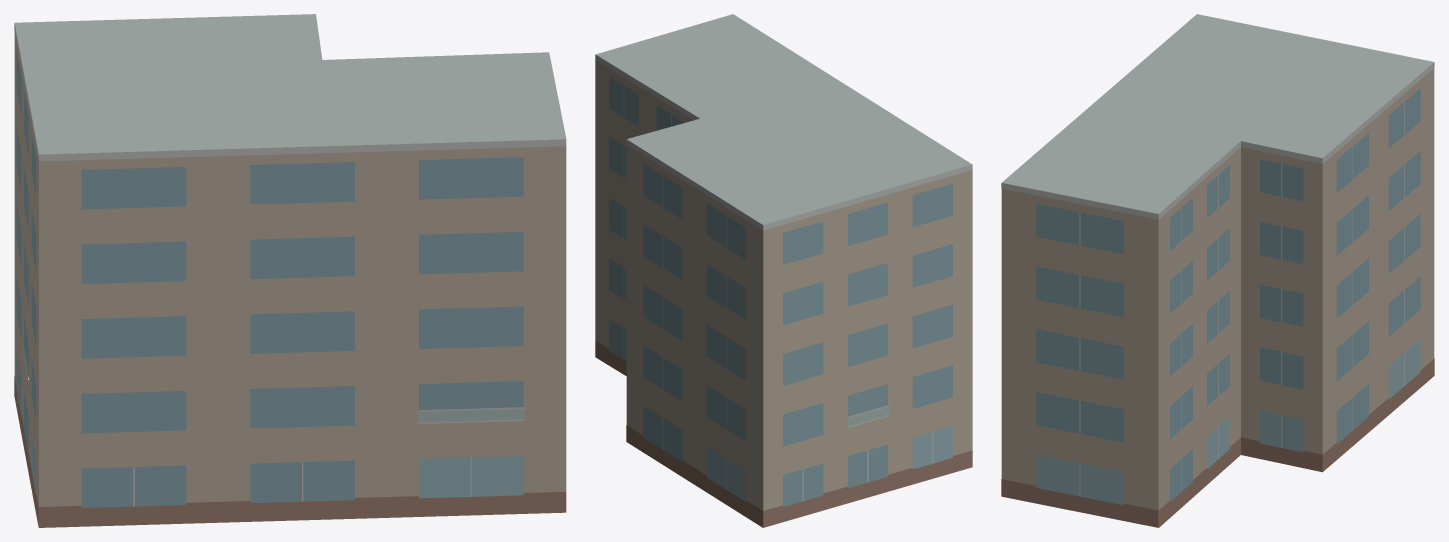
File: survey-upis-32893096.glb
3 renders of one model, left to right at view 1: azimuth 30°, elevation 25°; view 2: azimuth 150°, elevation 25°; view 3: azimuth 270°, elevation 25°, orthographic. The views are drawn at different scales.
Parts seen in each view (by area): view 1: survey-upis-32893096.tmp; view 2: survey-upis-32893096.tmp; view 3: survey-upis-32893096.tmp.
Boxes of the visible parts, x1,y1,x2,y2 form: survey-upis-32893096.tmp: (14,14,566,527); survey-upis-32893096.tmp: (595,14,972,527); survey-upis-32893096.tmp: (1001,14,1434,527).
Size of the model in its own units: 18.06 by 13.2 by 16.51.
